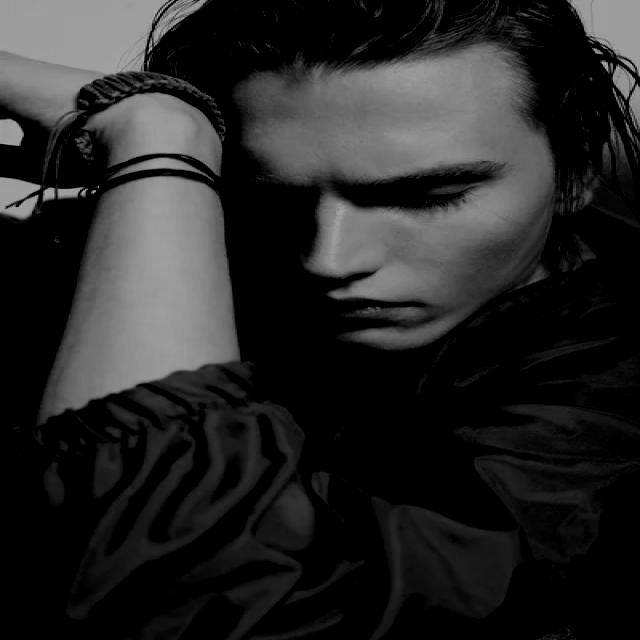real: (228, 0, 605, 359), (230, 140, 538, 222)
